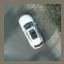car: (16, 12, 46, 50)
